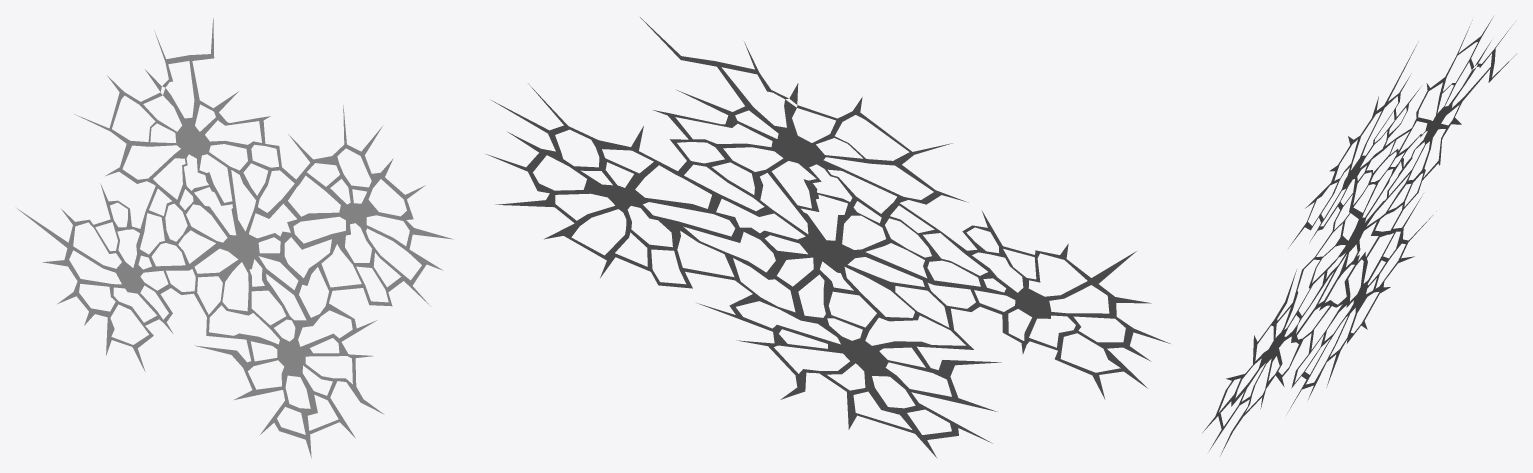
File: eff_GroundCrack01.fbx
3 views of the same model, side by side, from view 1: azimuth 30°, elevation 25°; view 2: azimuth 150°, elevation 25°; view 3: azimuth 270°, elevation 25° (orthographic). The views are drawn at different scales.
Parts seen in each view (by area): view 1: eff_GroundCrack01_Cross_msh; view 2: eff_GroundCrack01_Cross_msh; view 3: eff_GroundCrack01_Cross_msh.
Boxes of the visible parts, x1,y1,x2,y2 form: eff_GroundCrack01_Cross_msh: (17, 18, 452, 458); eff_GroundCrack01_Cross_msh: (486, 17, 1170, 458); eff_GroundCrack01_Cross_msh: (1202, 16, 1516, 455).
Bounding box in the file's own units: 33.87 × 27.37 × 19.55.
